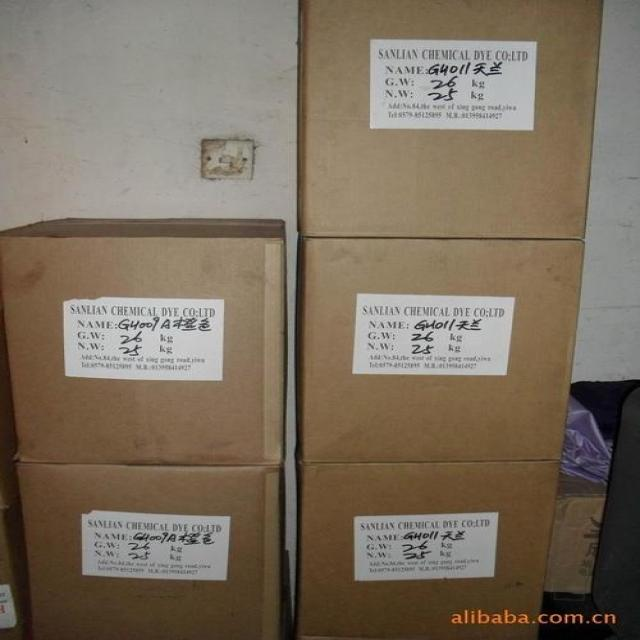box: (297, 2, 605, 238), (0, 215, 285, 467), (299, 235, 586, 463), (14, 464, 289, 639), (295, 460, 559, 638)
